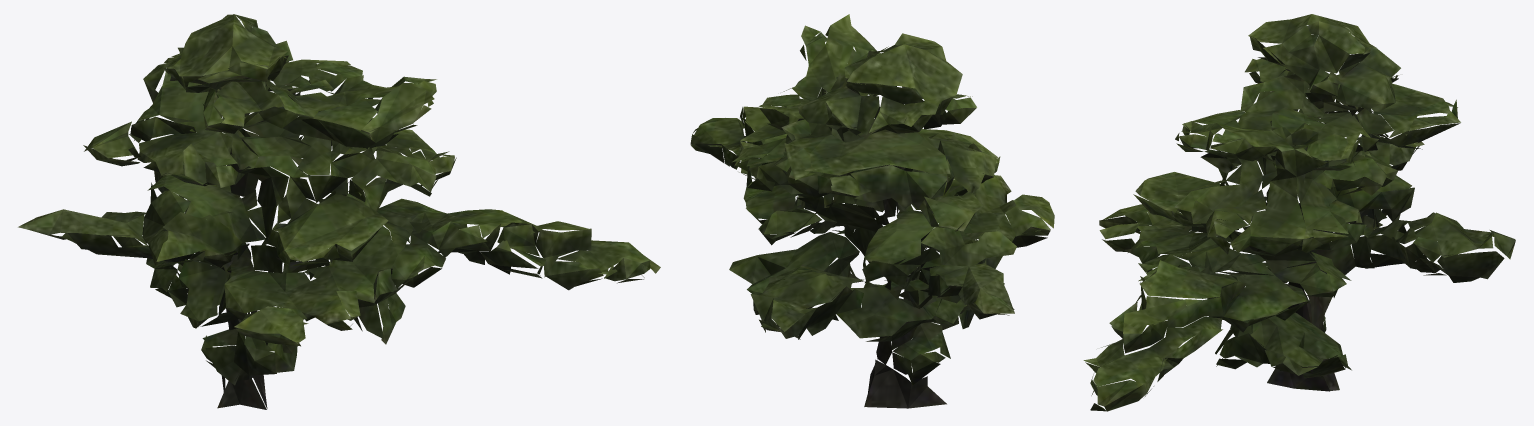
The model's file is x-bonsai.glb.
3 renders of one model, left to right at view 1: azimuth 30°, elevation 25°; view 2: azimuth 150°, elevation 25°; view 3: azimuth 270°, elevation 25°, orthographic. The views are drawn at different scales.
Visible parts, largest first — view 1: geometry_0; view 2: geometry_0; view 3: geometry_0.
Part boxes in pixels (box(x1,y1,x2,y2)): geometry_0: box(18, 14, 660, 409); geometry_0: box(690, 14, 1054, 408); geometry_0: box(1083, 14, 1515, 411).
Bounding box in the file's own units: 1.01 × 0.7378 × 0.7981.
Materials: 1 (1 with a texture image).
